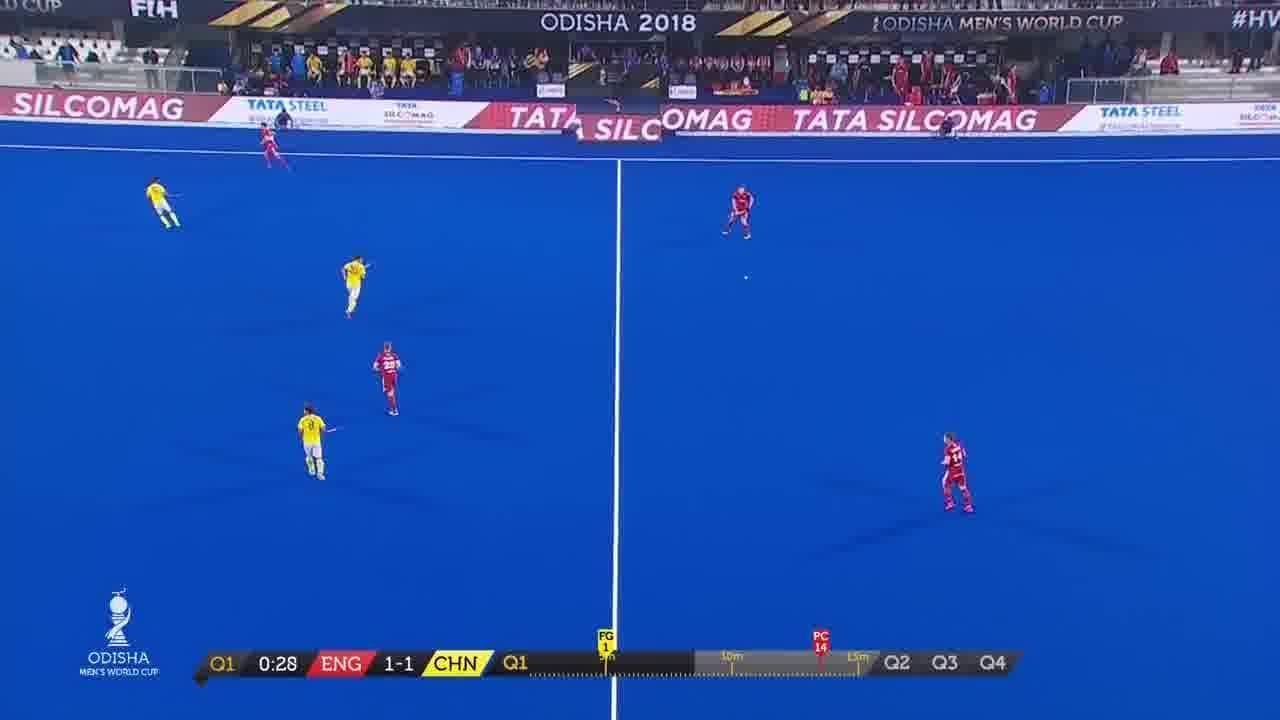ball: (740, 271, 753, 283)
